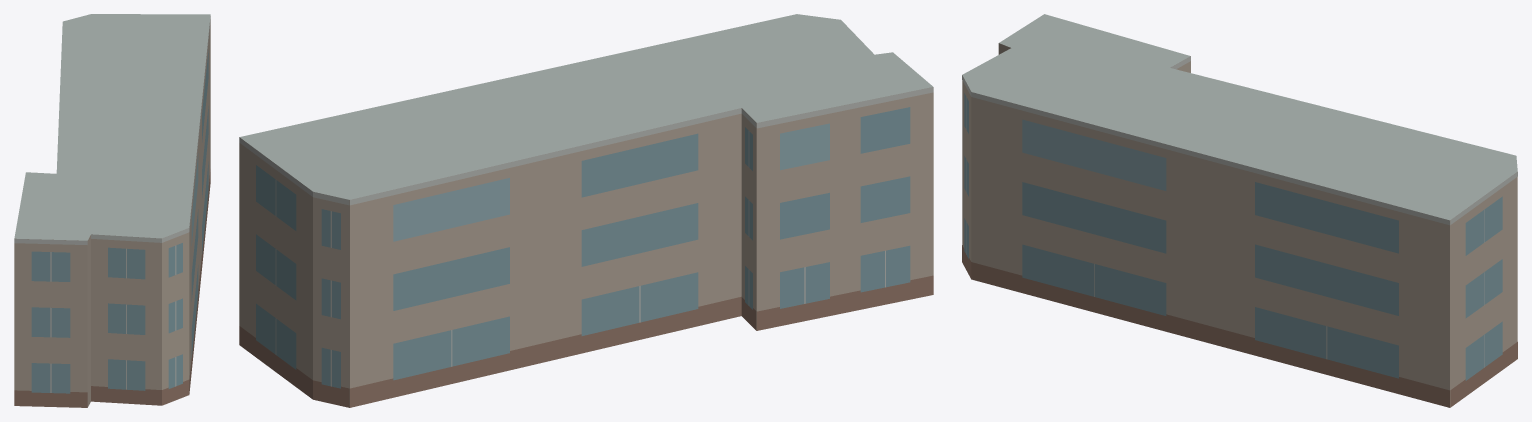
File: survey-upis-32579130.glb
3 renders of one model, left to right at view 1: azimuth 30°, elevation 25°; view 2: azimuth 150°, elevation 25°; view 3: azimuth 270°, elevation 25°, orthographic. The views are drawn at different scales.
Visible parts, largest first — view 1: survey-upis-32579130.tmp; view 2: survey-upis-32579130.tmp; view 3: survey-upis-32579130.tmp.
Boxes of the visible parts, left/top/right/bottom form: survey-upis-32579130.tmp: left=14, top=14, right=210, bottom=407; survey-upis-32579130.tmp: left=239, top=14, right=933, bottom=407; survey-upis-32579130.tmp: left=962, top=14, right=1517, bottom=407.
Size of the model in its own units: 21.61 by 9.15 by 24.58.
